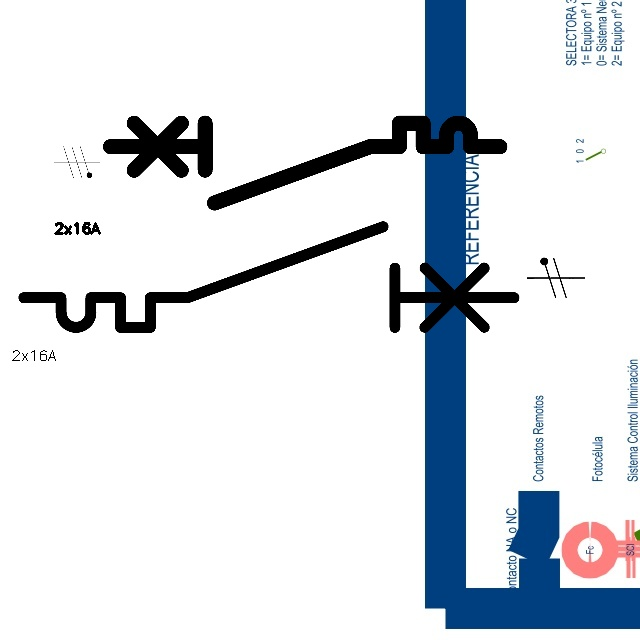interruptor_termomagnetico: (11, 214, 526, 340), (100, 113, 509, 213)
